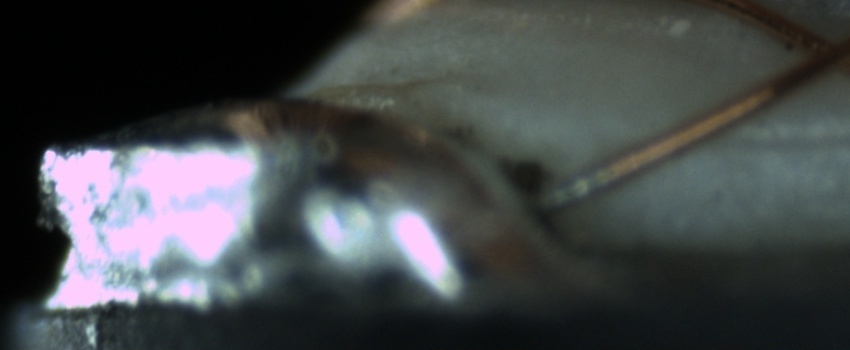CL: (772, 10, 850, 85)
DL: (694, 106, 850, 172)
TS: (538, 162, 612, 216)
